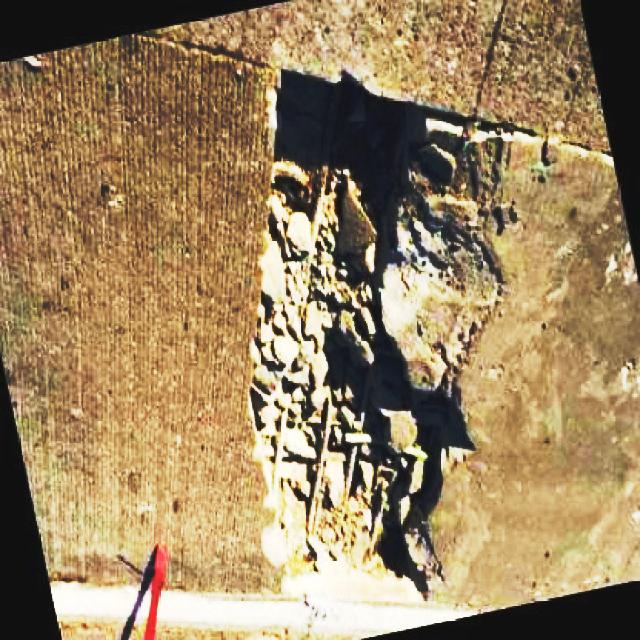pothole: (254, 72, 489, 588)
